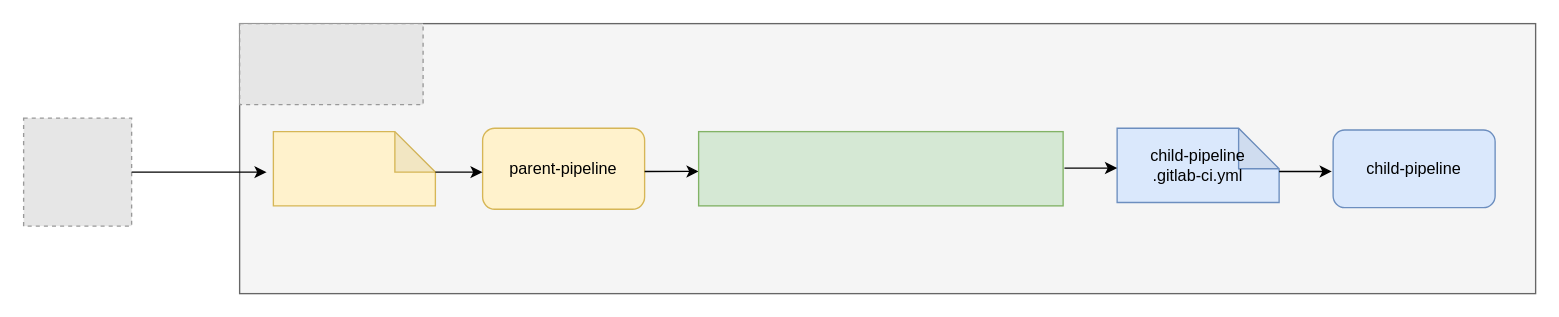
This 1559x317 diagram has some shape labels left out. Grey dashed boxes stand in for pictures. The centre of each missing label's shape, as x and y in pixels:
"kv-layout-parser + git tag render child-pipeline gitlab-ci.yml-template" belongs at (x=880, y=168).
"parent-pipeline .gitlab-ci.yml" belongs at (x=353, y=168).
